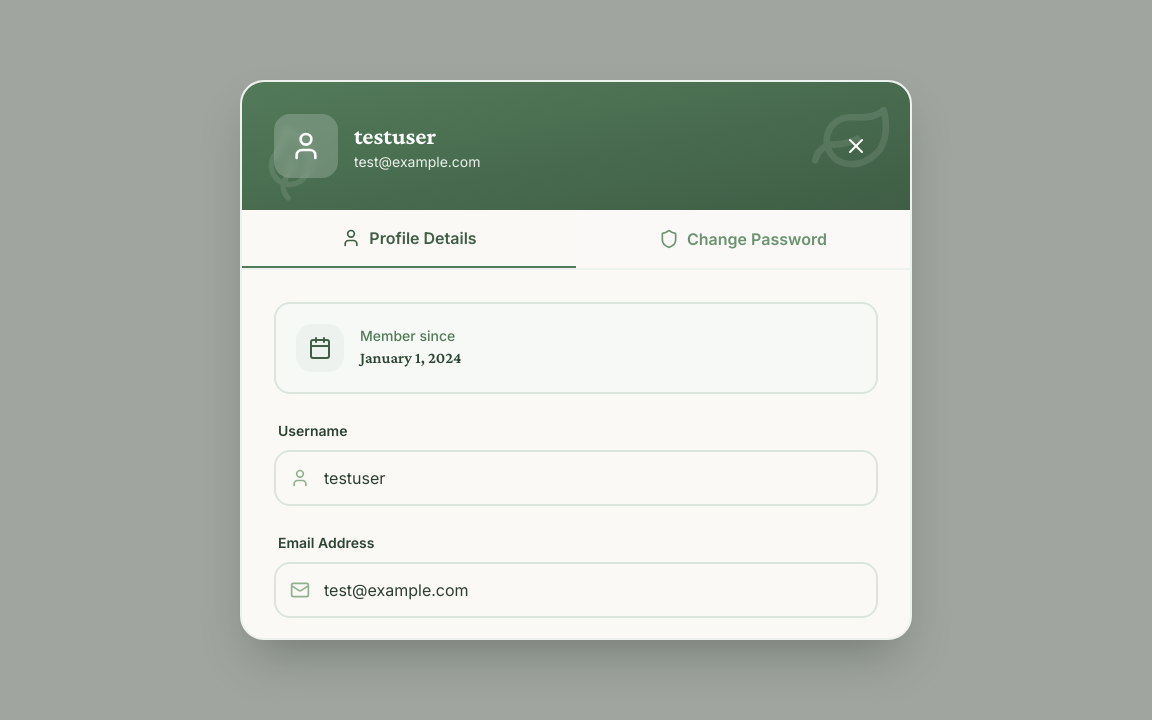
Test: ProfileModal Component › should switch between profile and password tabs
Check: the field showing "testuser" below "Username" is shown, box [274,450,878,506]
Note: Click password tab
What coordinates should you click on to do the following:
click the button "Change Password"
I would click on:
 (743, 239)
Its box is [576,210,910,268].
(page scrolled)
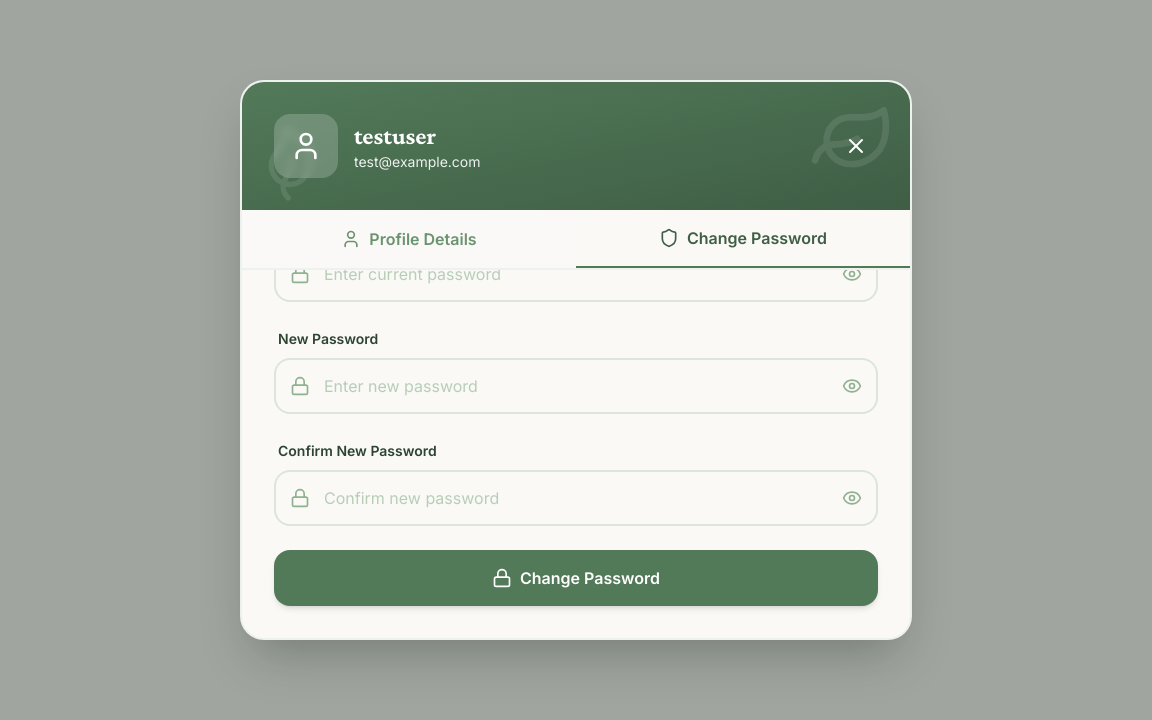
Check: the password field with placeholder "Enter new password" is shown, box [274,358,878,414]
Check: the password field with placeholder "Confirm new password" is shown, box [274,470,878,526]
